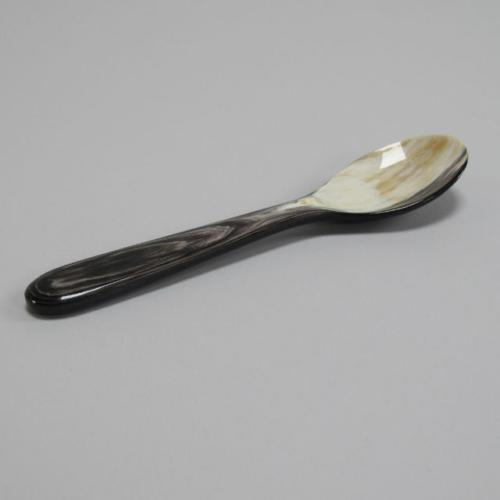Spoon: (24, 134, 468, 317)
